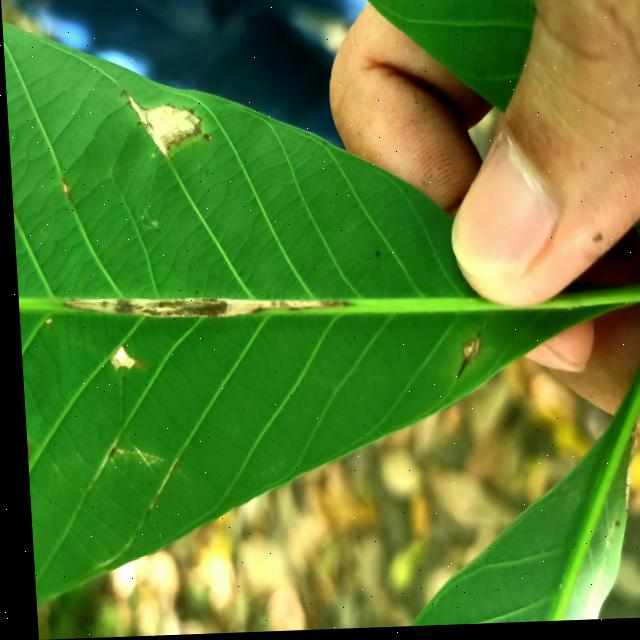Corynespora: (449, 336, 479, 383)
Leaf-Blight: (127, 94, 200, 159), (105, 347, 134, 370)
